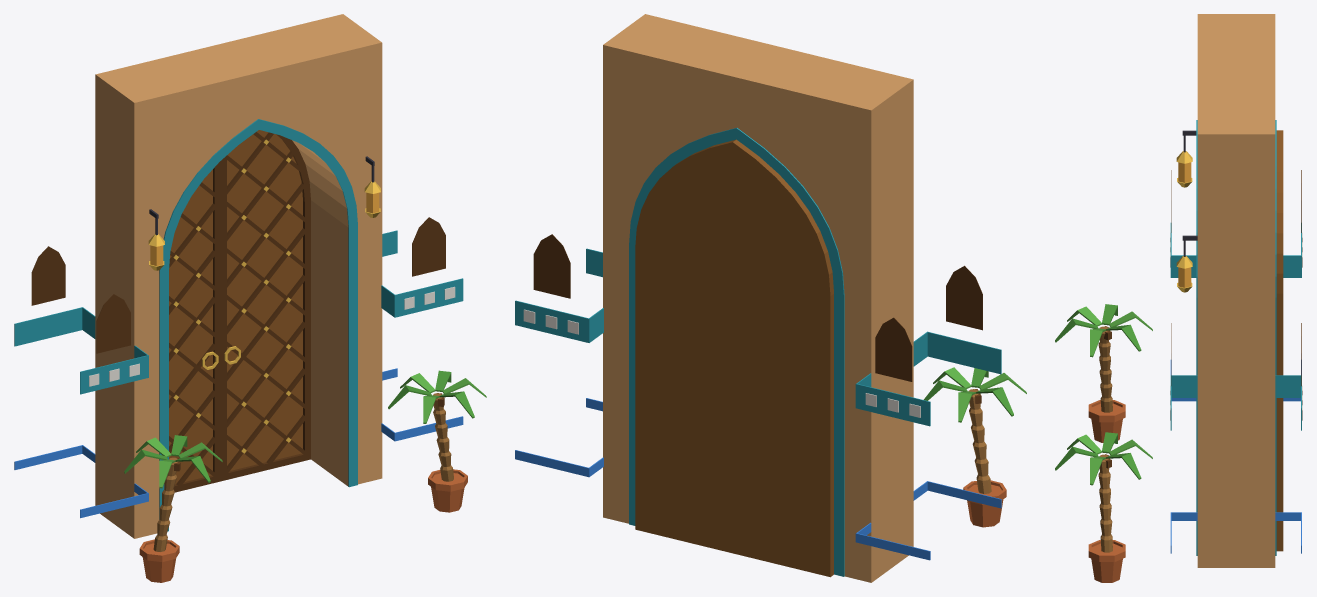
File: w4_gate.fbx
3 views of the same model, side by side, from view 1: azimuth 30°, elevation 25°; view 2: azimuth 150°, elevation 25°; view 3: azimuth 270°, elevation 25° (orthographic). The views are drawn at different scales.
Visible parts, largest first — view 1: World4Gate.ArchWall, World4Gate.DoorLeft, World4Gate.Trim, World4Gate.DoorLeftLattice, World4Gate.DoorRight, World4Gate.DoorRightLattice, World4Gate.Windows, World4Gate.Pots, World4Gate.TileBlue, World4Gate.Trunks, World4Gate.Fronds, World4Gate.FrondsLight (+1 smaller); view 2: World4Gate.ArchWall, World4Gate.DoorRight, World4Gate.DoorLeft, World4Gate.Trim, World4Gate.Windows, World4Gate.TileBlue, World4Gate.Trunks, World4Gate.Pots, World4Gate.TileWhite, World4Gate.FrondsLight, World4Gate.Fronds; view 3: World4Gate.ArchWall, World4Gate.Trim, World4Gate.DoorLeft, World4Gate.Pots, World4Gate.Trunks, World4Gate.Fronds, World4Gate.FrondsLight, World4Gate.TileBlue, World4Gate.LanternGlass, World4Gate.Gold.
Boxes of the visible parts, x1,y1,x2,y2 form: World4Gate.ArchWall: [95, 14, 382, 538]; World4Gate.DoorLeft: [227, 130, 302, 470]; World4Gate.Trim: [14, 119, 463, 531]; World4Gate.DoorLeftLattice: [221, 132, 310, 481]; World4Gate.DoorRight: [169, 169, 212, 484]; World4Gate.DoorRightLattice: [169, 161, 220, 492]; World4Gate.Windows: [31, 217, 445, 353]; World4Gate.Pots: [139, 469, 467, 582]; World4Gate.TileBlue: [14, 368, 463, 518]; World4Gate.Trunks: [153, 393, 453, 551]; World4Gate.Fronds: [124, 370, 474, 482]; World4Gate.FrondsLight: [136, 373, 486, 488]; World4Gate.ArchWall: [603, 14, 913, 582]; World4Gate.DoorRight: [733, 139, 833, 577]; World4Gate.DoorLeft: [635, 139, 735, 553]; World4Gate.Trim: [515, 128, 1001, 576]; World4Gate.Windows: [533, 234, 982, 381]; World4Gate.TileBlue: [515, 398, 1001, 560]; World4Gate.Trunks: [969, 389, 991, 493]; World4Gate.Pots: [963, 480, 1006, 527]; World4Gate.TileWhite: [523, 309, 920, 417]; World4Gate.FrondsLight: [933, 367, 1026, 422]; World4Gate.Fronds: [923, 368, 1013, 416]; World4Gate.ArchWall: [1197, 14, 1275, 567]; World4Gate.Trim: [1170, 120, 1301, 555]; World4Gate.DoorLeft: [1276, 130, 1283, 551]; World4Gate.Pots: [1088, 400, 1125, 582]; World4Gate.Trunks: [1098, 326, 1112, 552]; World4Gate.Fronds: [1055, 304, 1141, 479]; World4Gate.FrondsLight: [1067, 306, 1152, 485]; World4Gate.TileBlue: [1170, 360, 1301, 553]; World4Gate.LanternGlass: [1178, 162, 1191, 287]; World4Gate.Gold: [1176, 151, 1192, 292].
Size of the model in its own units: 34 by 37 by 19.17.
